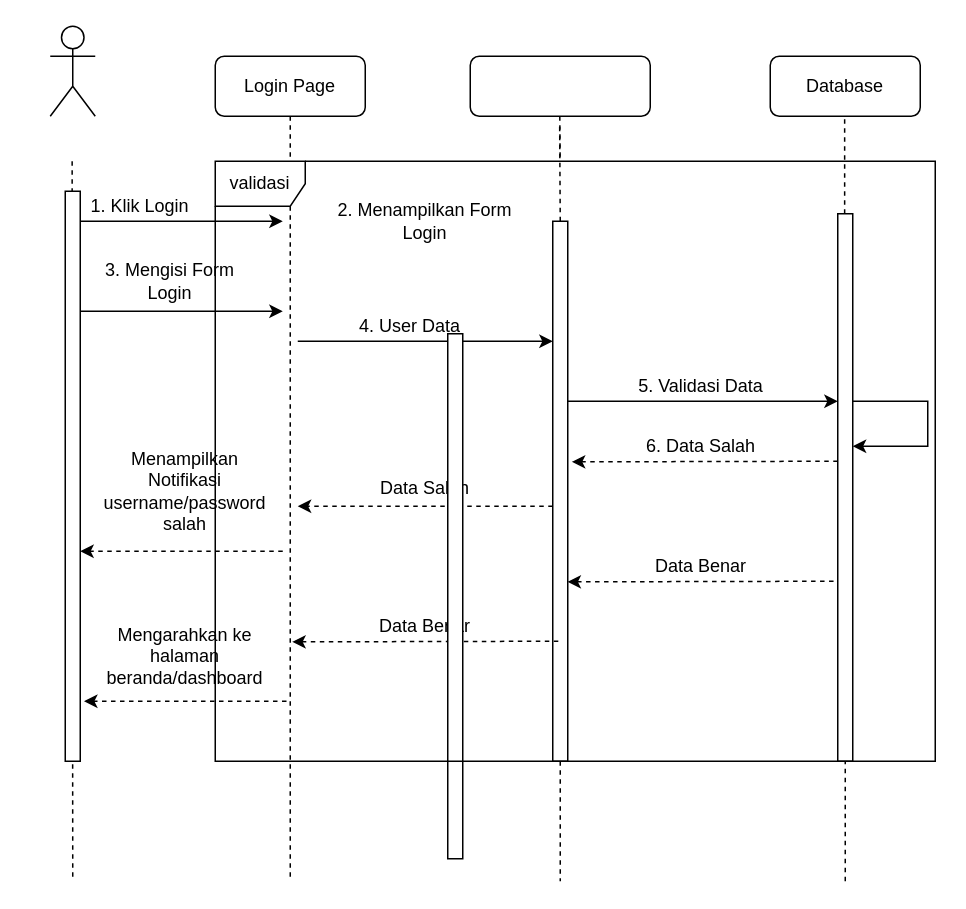
The diagram is 966 pixels wide and 909 high, and some of its shapes have lost their labels. The centre of each missing label's shape, as x and y in pixels:
Sistem: the point at 559,85
User/Admin: the point at 72,70
